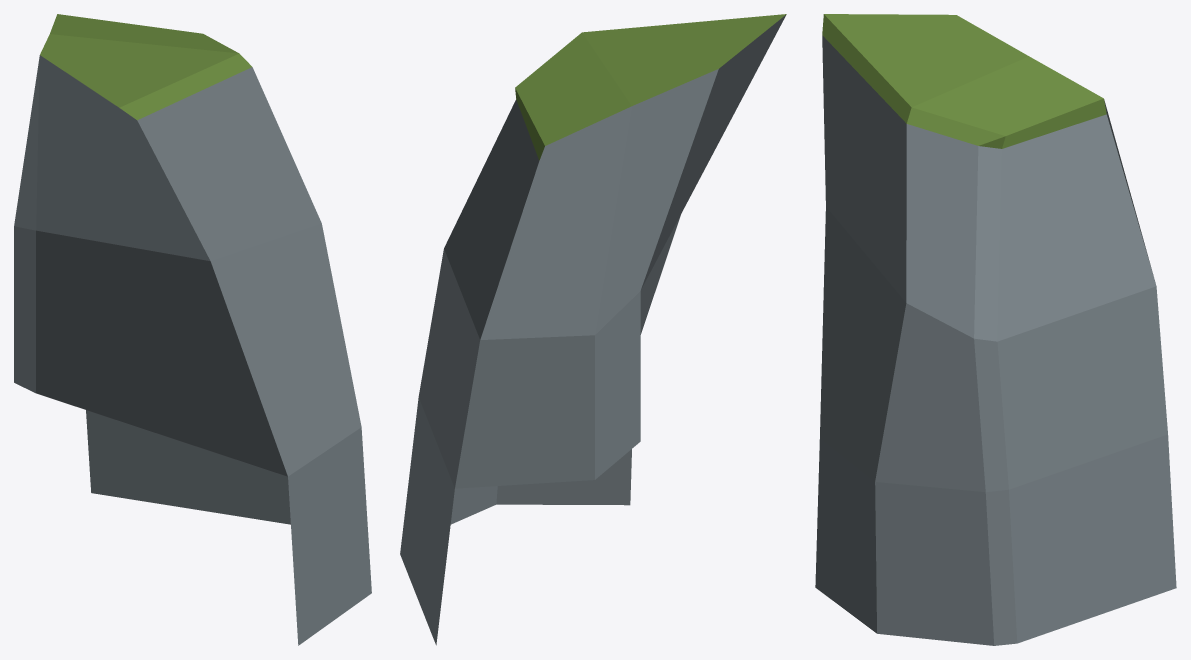
The model's file is Rocher 2.fbx.
3 renders of one model, left to right at view 1: azimuth 30°, elevation 25°; view 2: azimuth 150°, elevation 25°; view 3: azimuth 270°, elevation 25°, orthographic. The views are drawn at different scales.
Visible parts, largest first — view 1: Cube.027; view 2: Cube.027; view 3: Cube.027.
Boxes of the visible parts, left/top/right/bottom form: Cube.027: left=14, top=14, right=371, bottom=645; Cube.027: left=400, top=14, right=786, bottom=645; Cube.027: left=815, top=14, right=1176, bottom=645.
Bounding box in the file's own units: 424 × 743 × 486.
